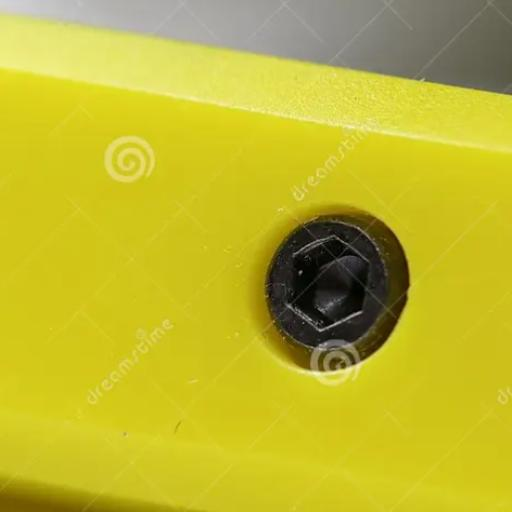Hex-Allen: (265, 219, 390, 358)
